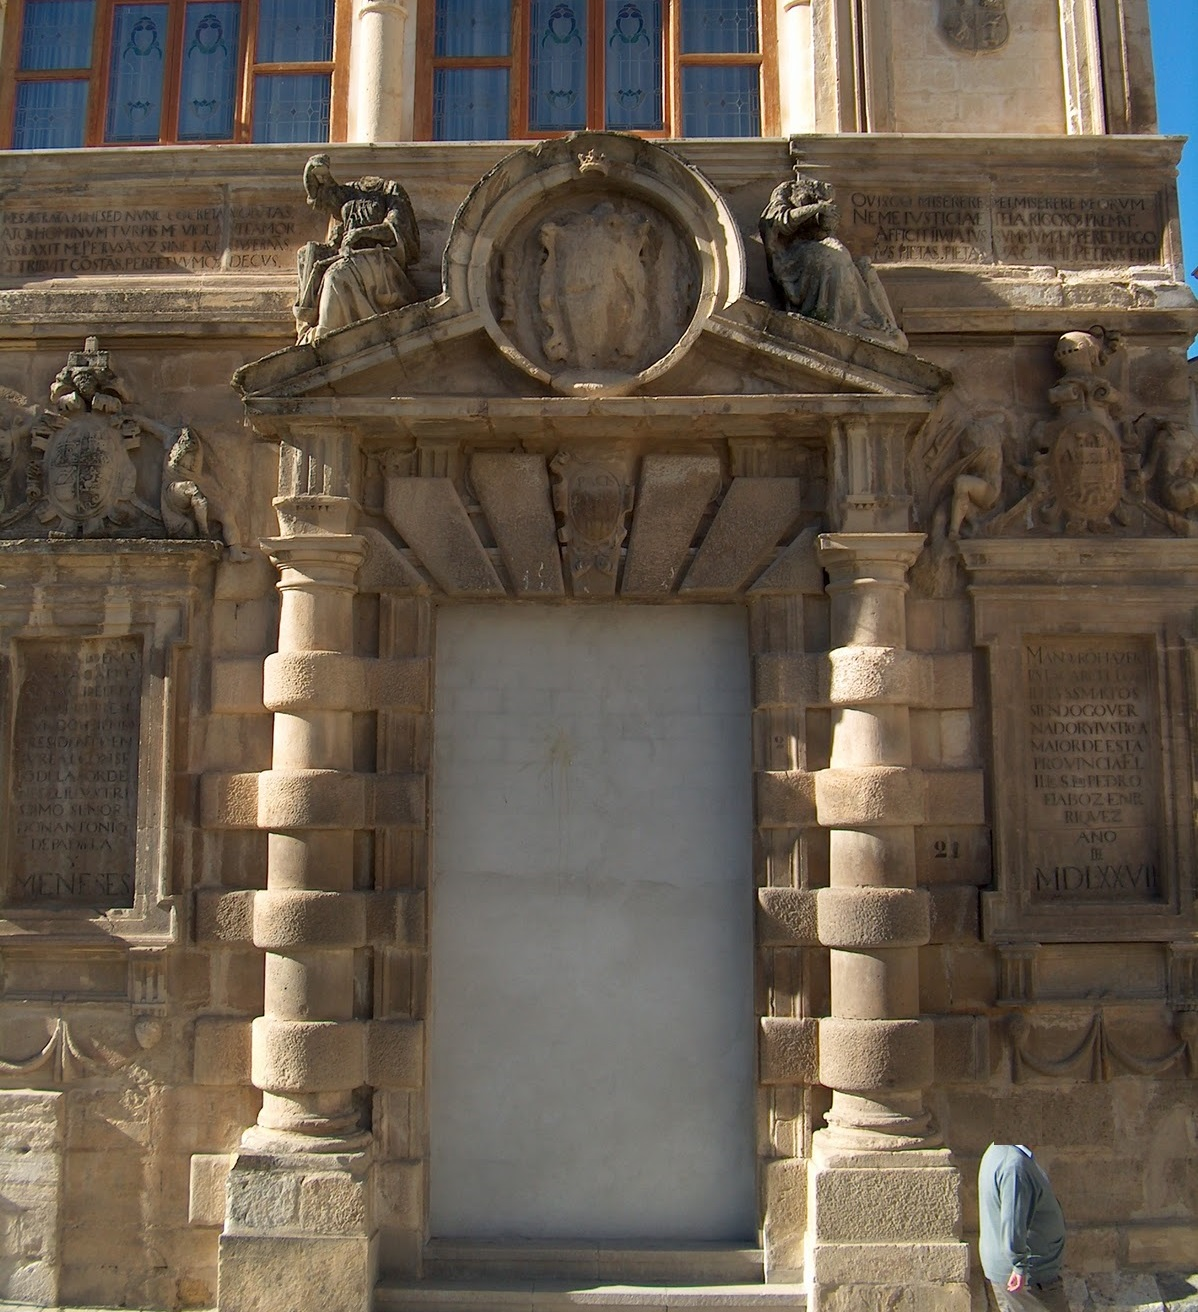fronton-partido: (219, 283, 972, 441)
vano-adintelado: (352, 531, 828, 1253)
